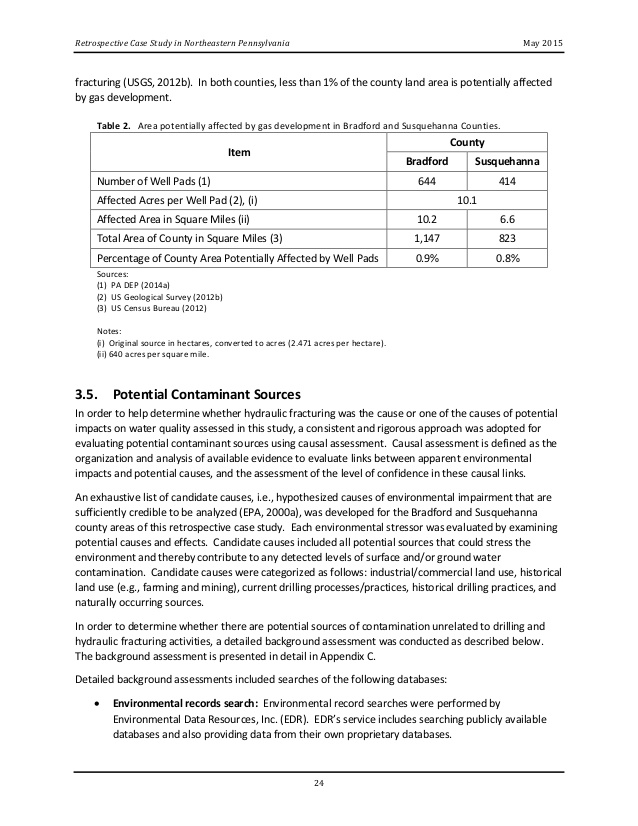fracking table: (88, 119, 554, 268)
